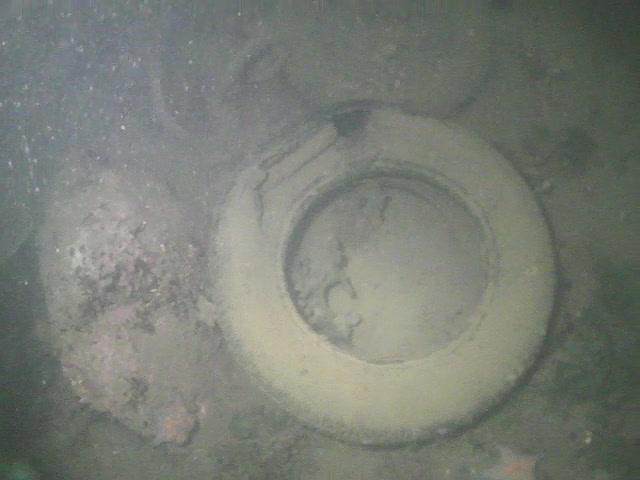tire: (209, 106, 556, 444)
